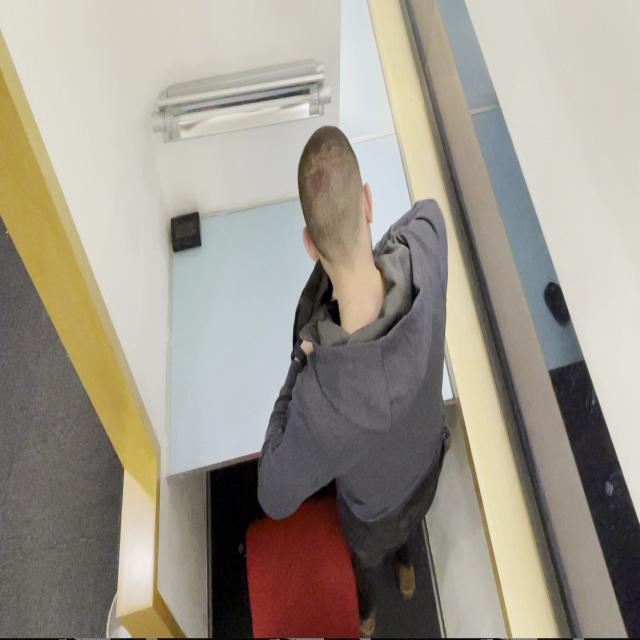ipad: (256, 123, 451, 638)
